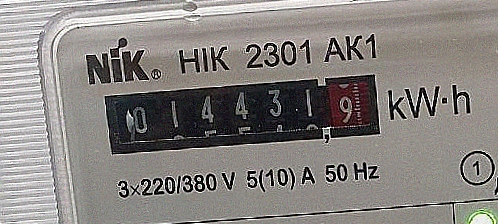0: (129, 102, 151, 136)
1: (165, 96, 184, 130), (302, 86, 316, 118)
3: (265, 87, 285, 120)
4: (196, 92, 218, 125), (231, 87, 250, 122)
9: (336, 92, 354, 124)
screen: (95, 66, 393, 163)
